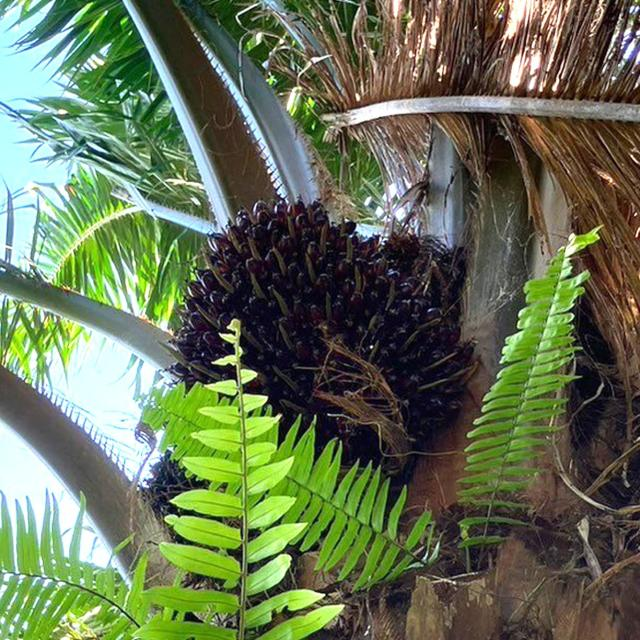ripe: (153, 175, 482, 488)
